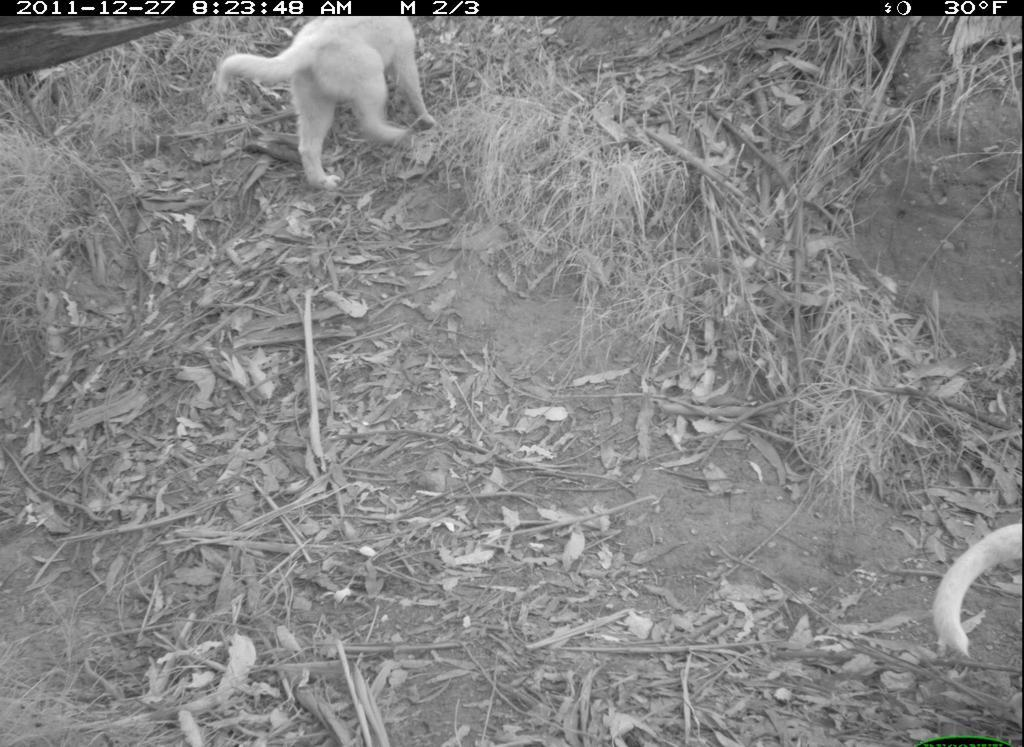dog: (214, 18, 447, 193), (920, 511, 1023, 661)
